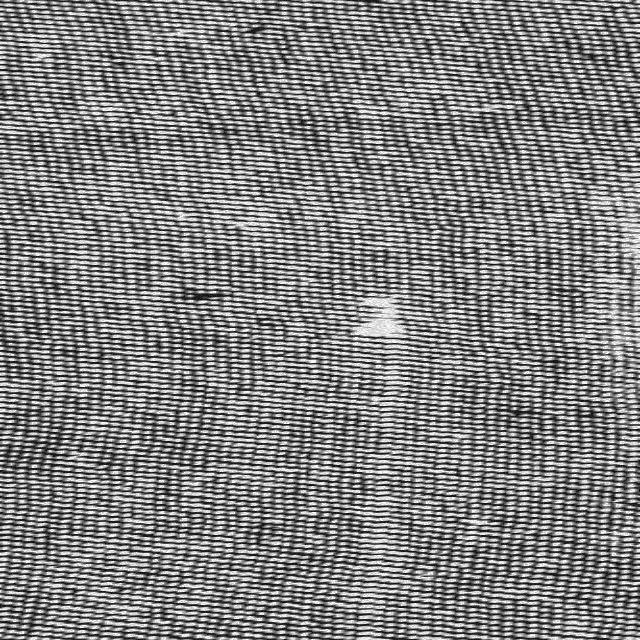Foreign_yarn: (338, 272, 439, 640)
